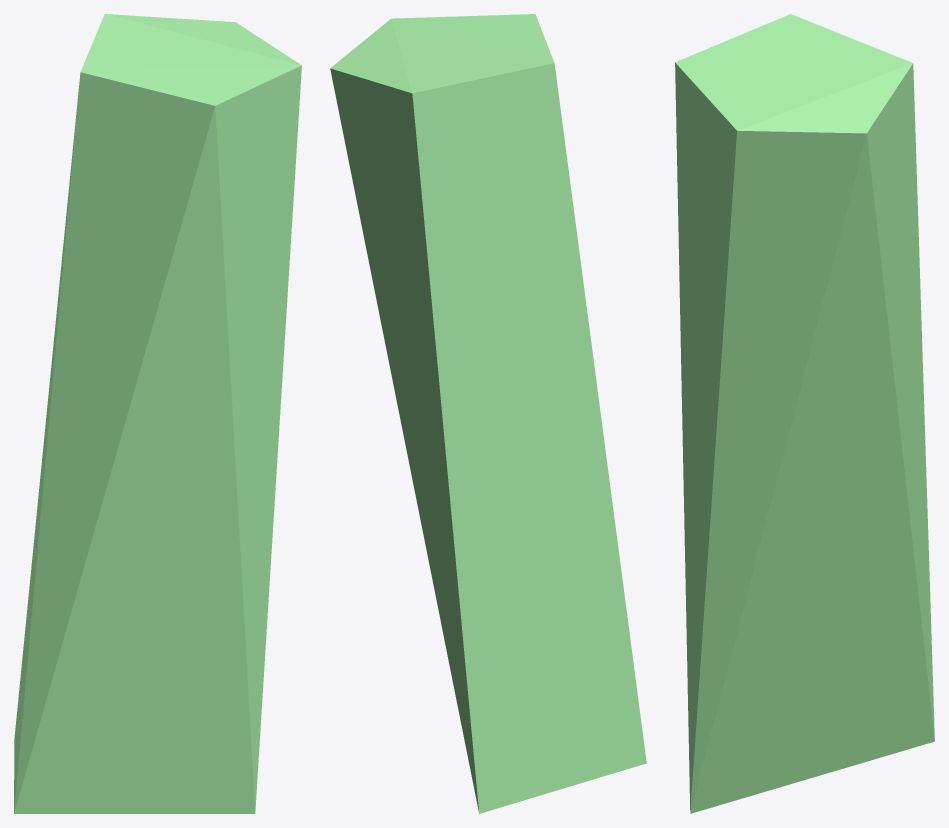
The model's file is UMIRobot_UMIRobot_link_3_convex_coll_7.dae.
The picture shows the model from 3 angles, left to right: view 1: azimuth 30°, elevation 25°; view 2: azimuth 150°, elevation 25°; view 3: azimuth 270°, elevation 25°; orthographic projection. The views are drawn at different scales.
Parts seen in each view (by area): view 1: node; view 2: node; view 3: node.
Boxes of the visible parts, x1=… form: node: x1=14, y1=14, x2=301, y2=813; node: x1=330, y1=14, x2=646, y2=813; node: x1=675, y1=14, x2=934, y2=813.
Bounding box in the file's own units: 0.00695 × 0.0177 × 0.00565.
